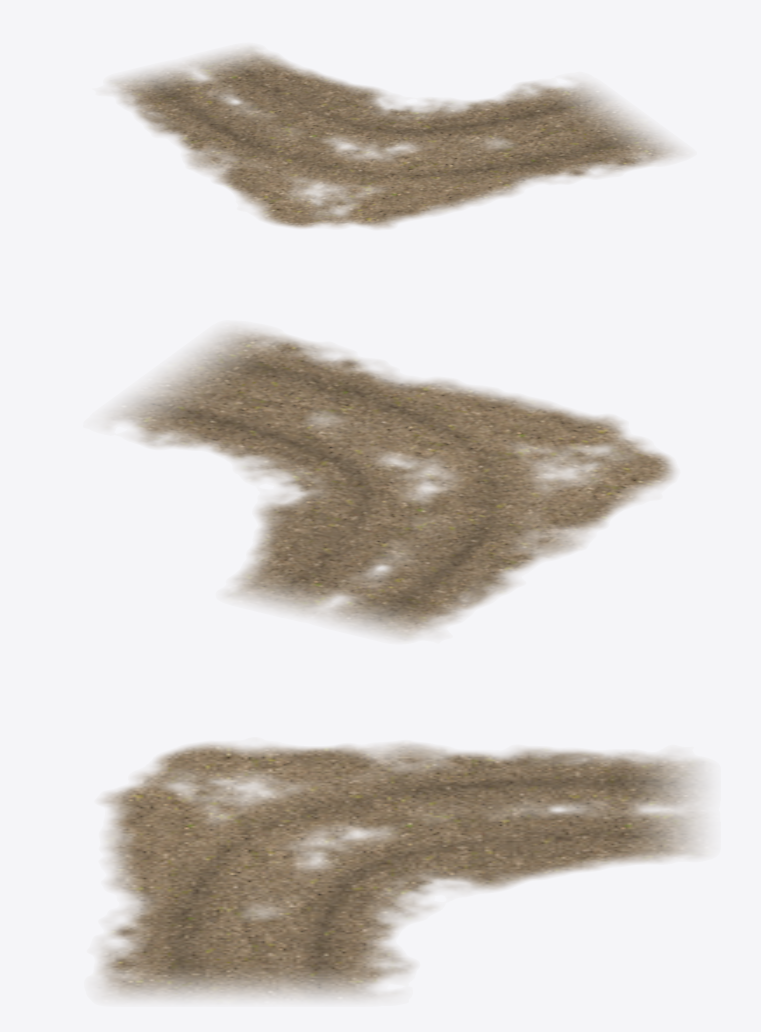
The model's file is road_bend_drive_drive.glb.
3 views of the same model, one above another, from view 1: azimuth 30°, elevation 25°; view 2: azimuth 150°, elevation 25°; view 3: azimuth 270°, elevation 25° (orthographic). The views are drawn at different scales.
Parts seen in each view (by area): view 1: road_bend_drive_drive; view 2: road_bend_drive_drive; view 3: road_bend_drive_drive.
Boxes of the visible parts, box(x1,y1,x2,y2) form: road_bend_drive_drive: box(111, 47, 680, 228); road_bend_drive_drive: box(108, 328, 675, 639); road_bend_drive_drive: box(98, 743, 704, 999).
Bounding box in the file's own units: 8.38 × 0 × 8.38.
Materials: 1 (1 with a texture image).
